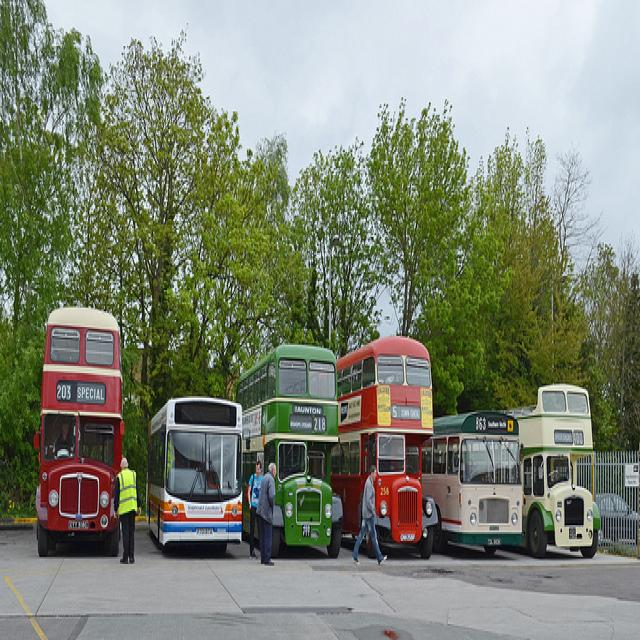Vehicle: (331, 336, 439, 558), (32, 301, 124, 560), (234, 347, 345, 558), (492, 384, 601, 558), (146, 397, 243, 555), (422, 412, 524, 556), (598, 491, 640, 545)
